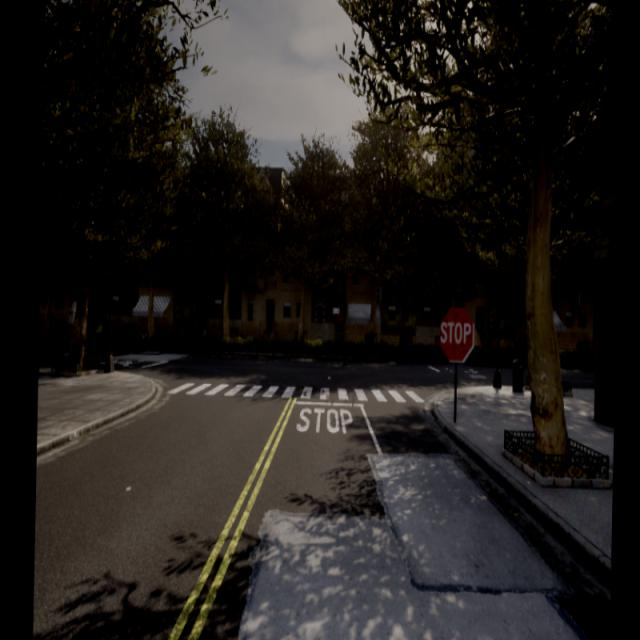stop sign: (437, 303, 477, 365), (439, 319, 473, 346)
